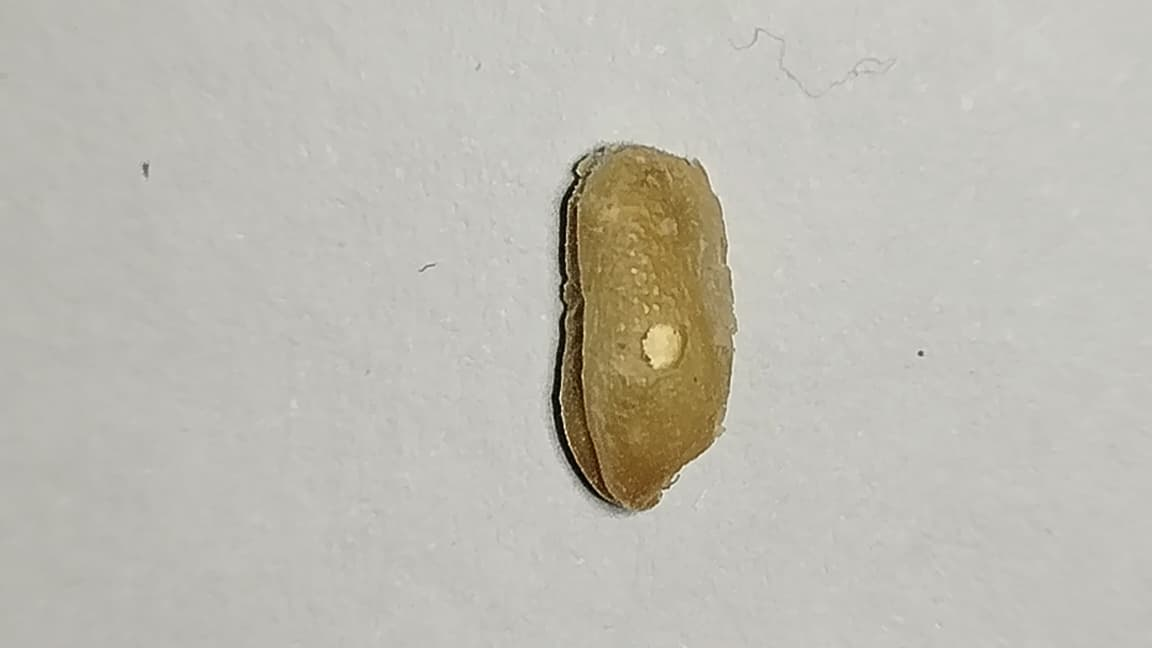damage: (560, 147, 736, 510)
insectdamage: (636, 303, 695, 387)
